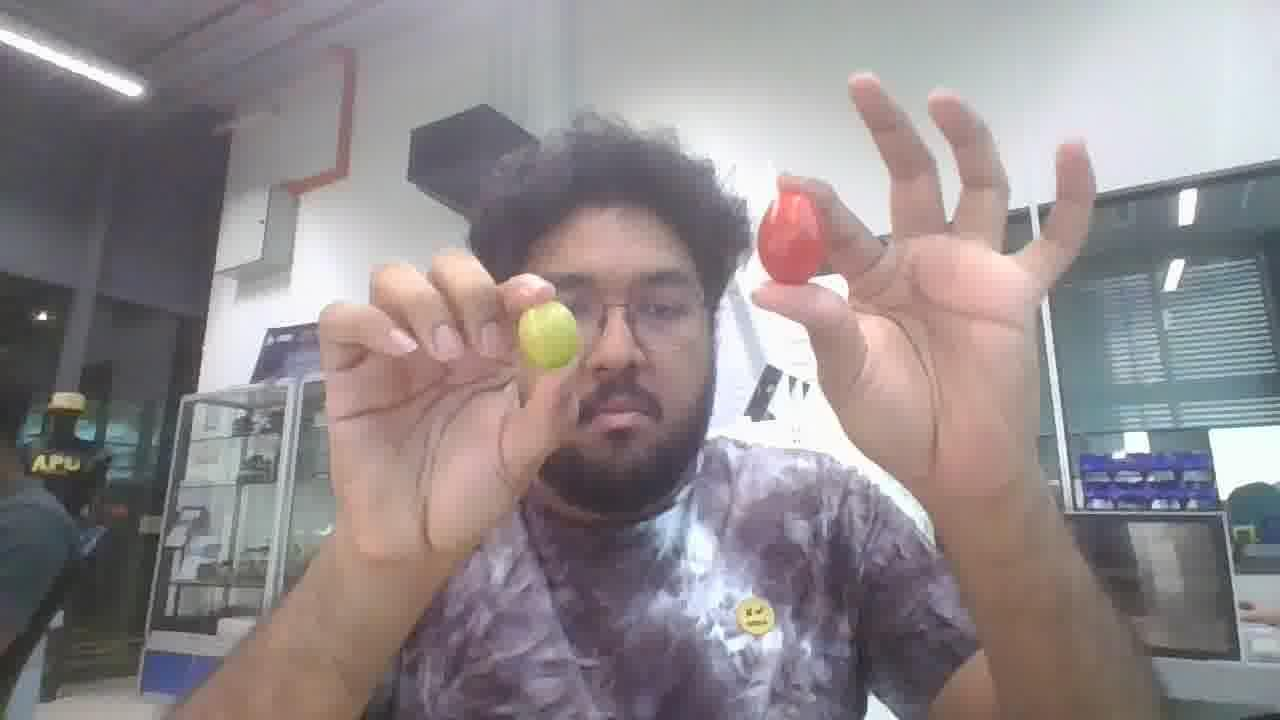green_cherry_tomato: (517, 301, 580, 370)
red_cherry_tomato: (757, 191, 828, 284)
